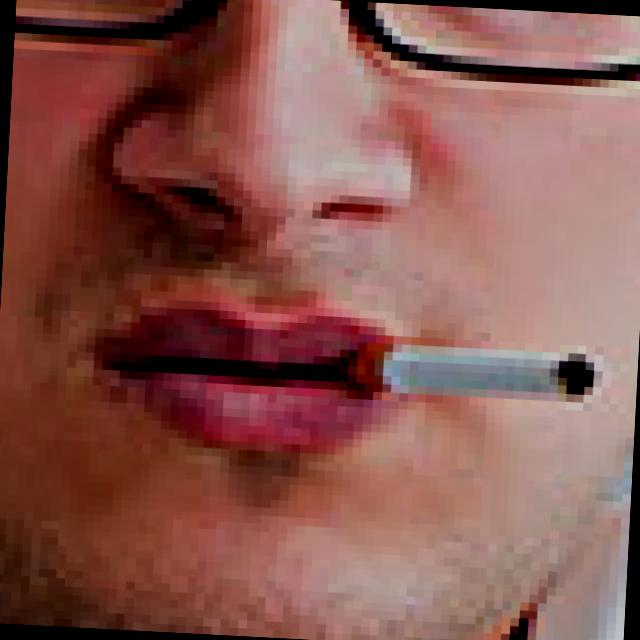smoke: (336, 332, 604, 414)
